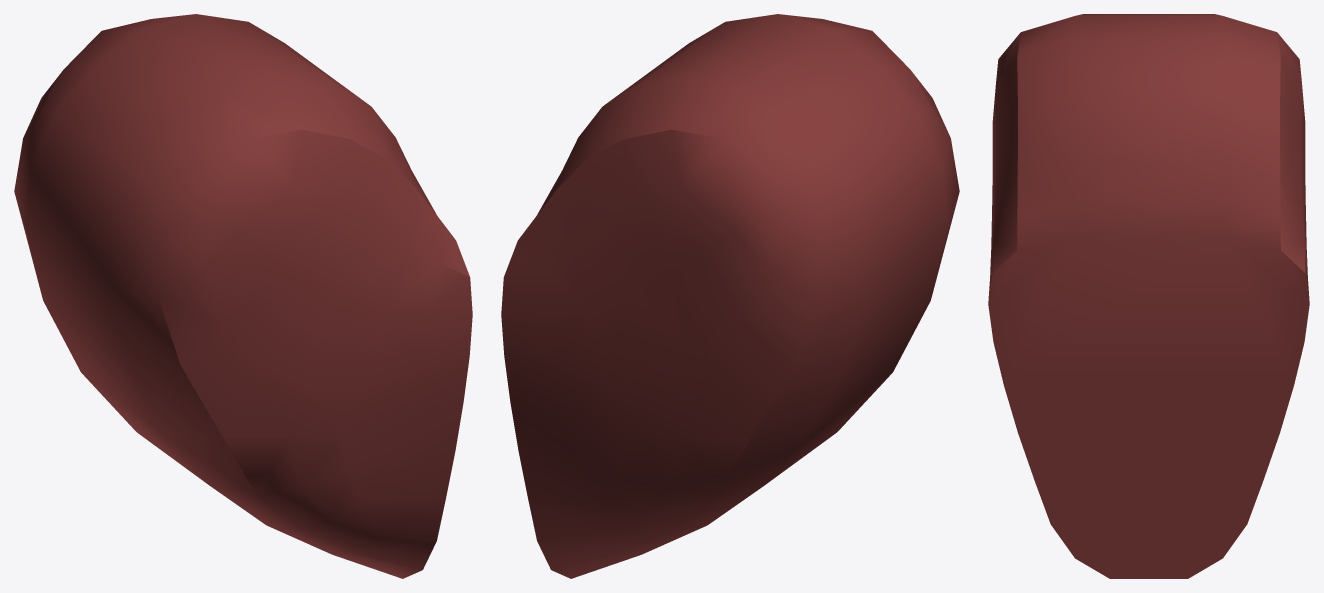
The model's file is heart_half.glb.
The picture shows the model from 3 angles, left to right: view 1: azimuth 30°, elevation 25°; view 2: azimuth 150°, elevation 25°; view 3: azimuth 270°, elevation 25°; orthographic projection. The views are drawn at different scales.
Visible parts, largest first — view 1: Heart_Half; view 2: Heart_Half; view 3: Heart_Half.
Boxes of the visible parts, <box> form: Heart_Half: <box>14,14,472,578</box>; Heart_Half: <box>501,14,959,578</box>; Heart_Half: <box>988,14,1309,578</box>.
Bounding box in the file's own units: 0.7401 × 1.24 × 0.7542.
